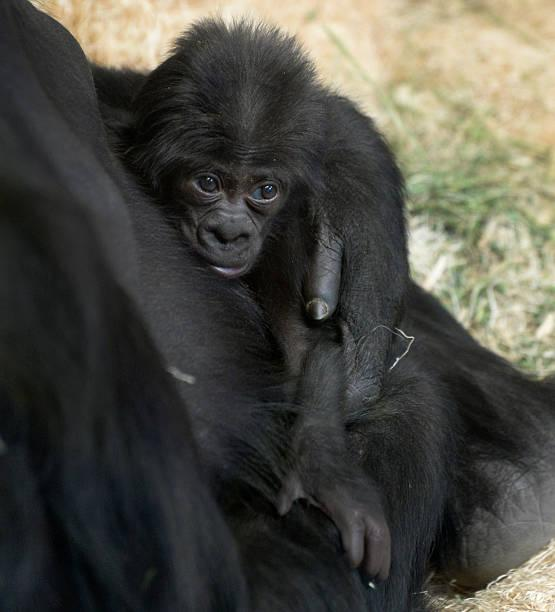gorille_Autres: (80, 7, 471, 438)
